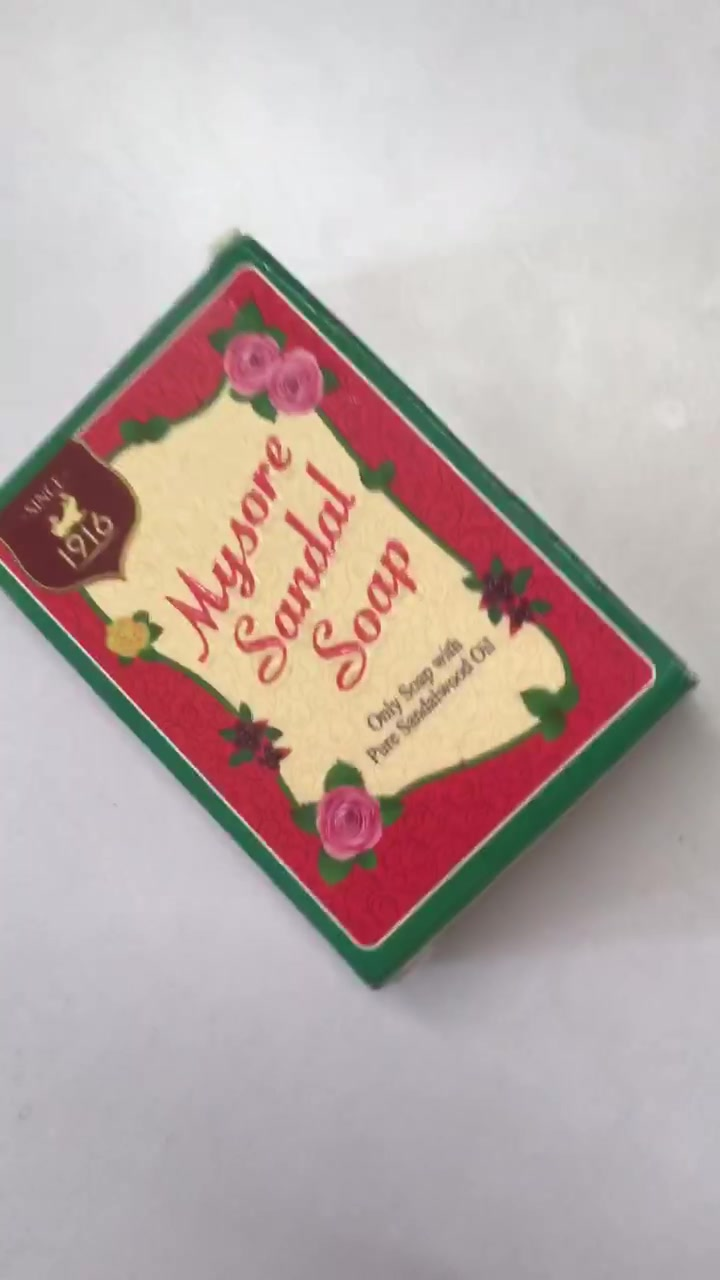mysore sandal soap: (2, 239, 688, 993)
